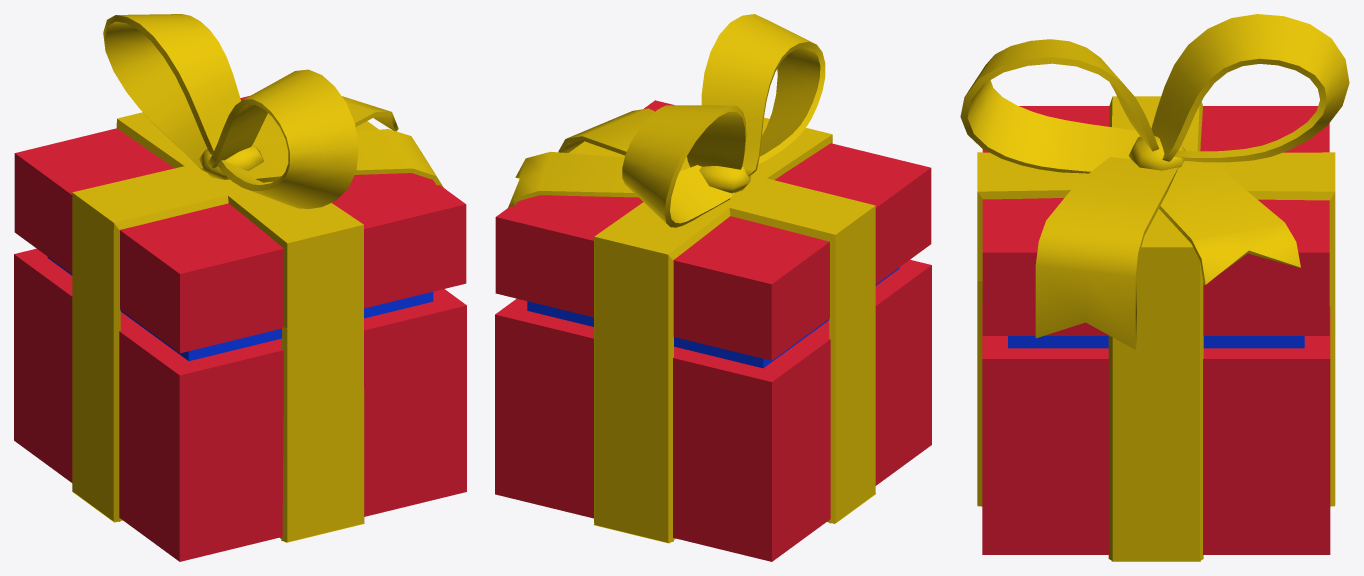
The model's file is Gift_Box_03.fbx.
3 views of the same model, side by side, from view 1: azimuth 30°, elevation 25°; view 2: azimuth 150°, elevation 25°; view 3: azimuth 270°, elevation 25° (orthographic). The views are drawn at different scales.
Visible parts, largest first — view 1: Gift_Box_03_top, Gift_Box_03_bottom; view 2: Gift_Box_03_top, Gift_Box_03_bottom; view 3: Gift_Box_03_top, Gift_Box_03_bottom.
Boxes of the visible parts, left/top/right/bottom form: Gift_Box_03_top: left=14, top=14, right=466, bottom=353; Gift_Box_03_bottom: left=14, top=248, right=466, bottom=561; Gift_Box_03_top: left=495, top=14, right=931, bottom=360; Gift_Box_03_bottom: left=495, top=259, right=931, bottom=561; Gift_Box_03_top: left=960, top=14, right=1349, bottom=349; Gift_Box_03_bottom: left=977, top=281, right=1335, bottom=561.
Size of the model in its own units: 2.29 by 2.82 by 2.24.
